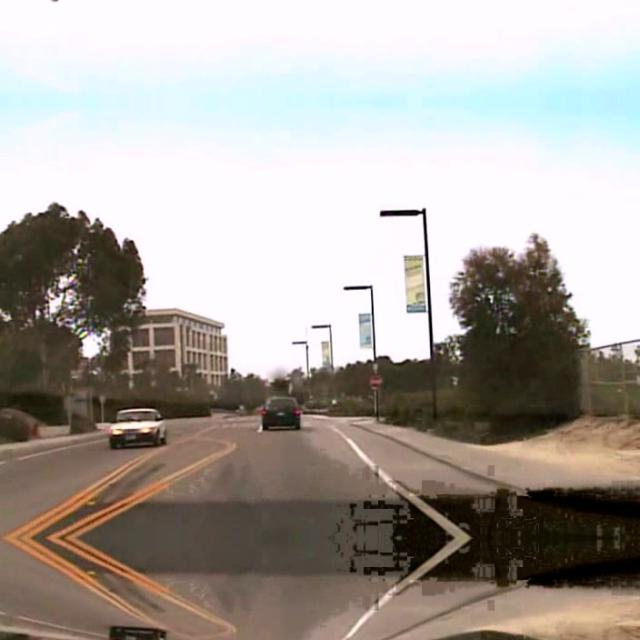stop: (367, 373, 381, 387)
